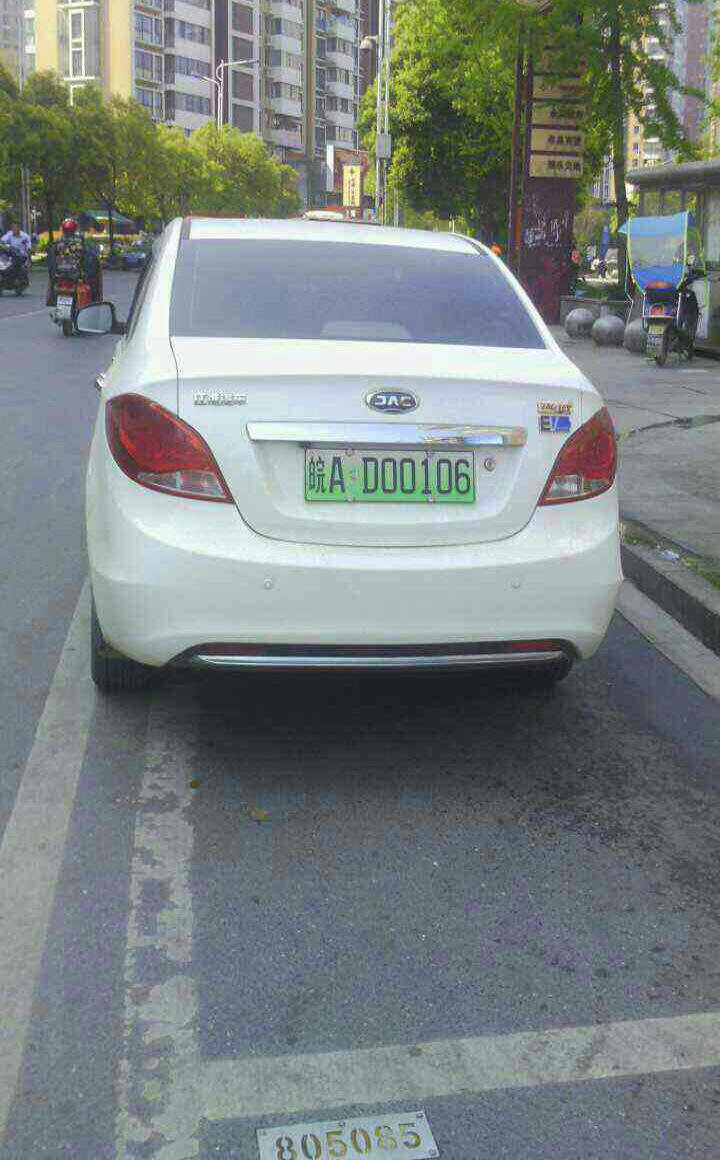car: (298, 447, 487, 509)
